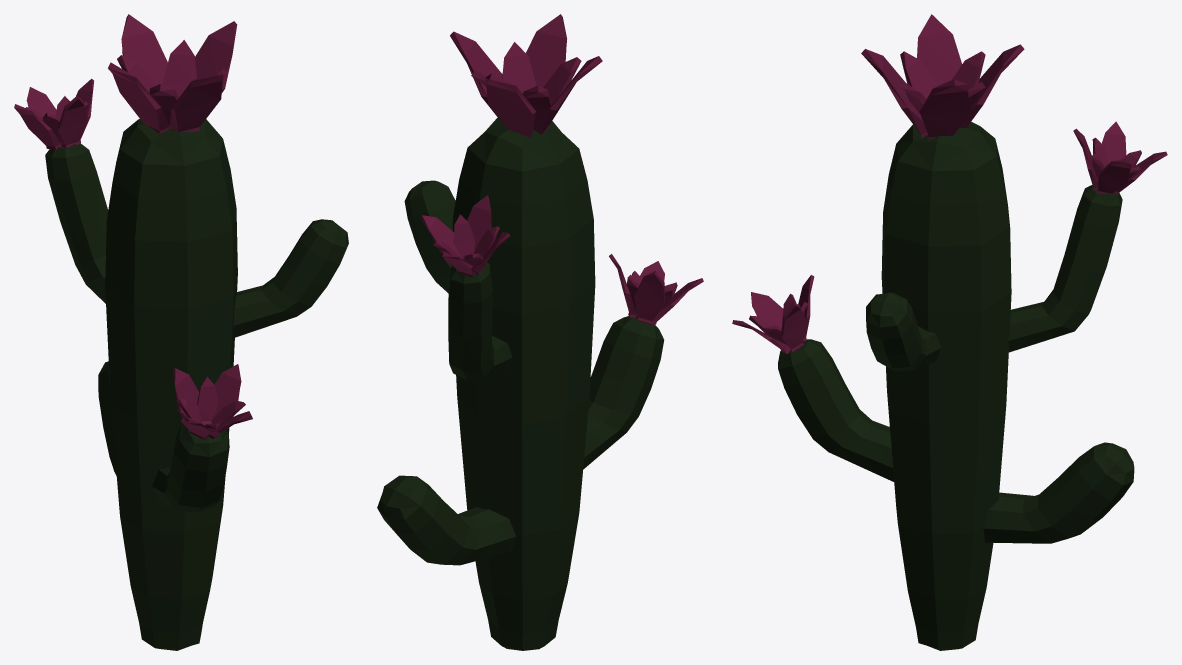
The model's file is CactusFlowers_2.obj.
The picture shows the model from 3 angles, left to right: view 1: azimuth 30°, elevation 25°; view 2: azimuth 150°, elevation 25°; view 3: azimuth 270°, elevation 25°; orthographic projection.
Parts seen in each view (by area): view 1: CactusFlowers_2; view 2: CactusFlowers_2; view 3: CactusFlowers_2.
Boxes of the visible parts, left/top/right/bottom form: CactusFlowers_2: left=14, top=14, right=348, bottom=650; CactusFlowers_2: left=377, top=14, right=703, bottom=650; CactusFlowers_2: left=732, top=14, right=1167, bottom=650.
Bounding box in the file's own units: 0.7654 × 1.94 × 1.28.
